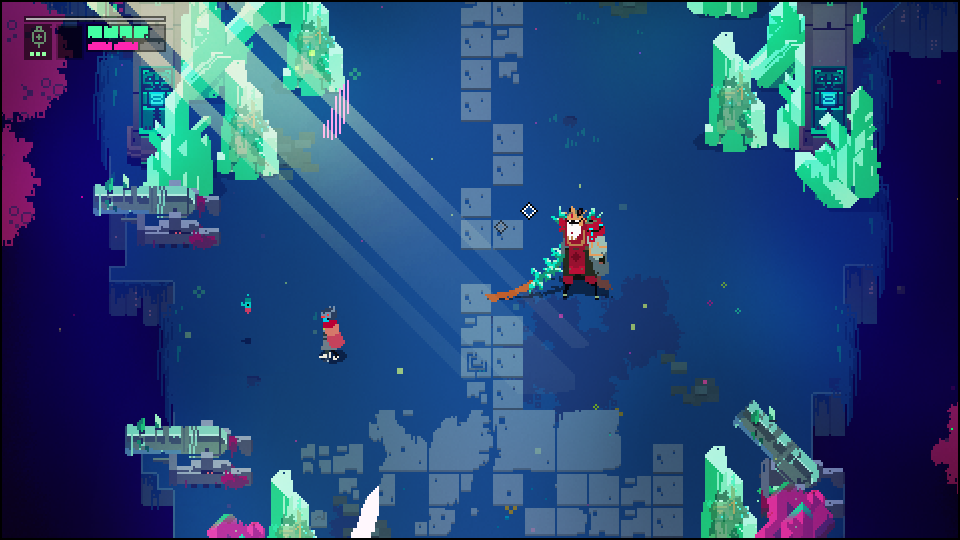hanged_man: (529, 206, 613, 306)
player: (319, 307, 346, 364)
